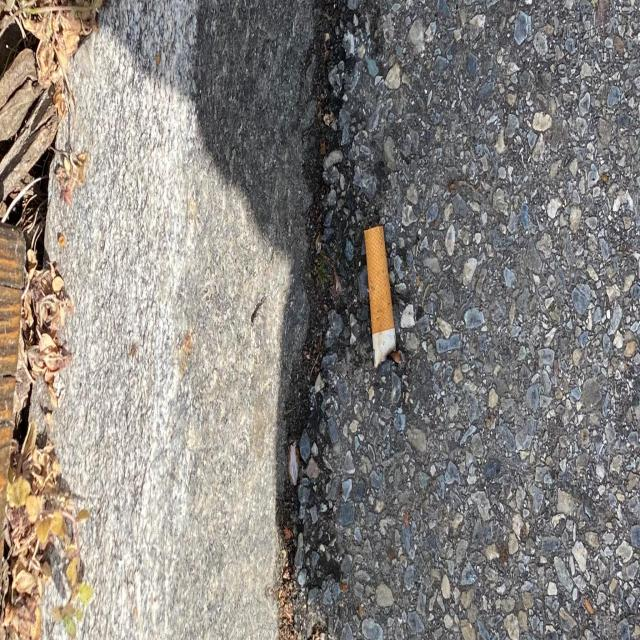other waste: (362, 222, 397, 371)
